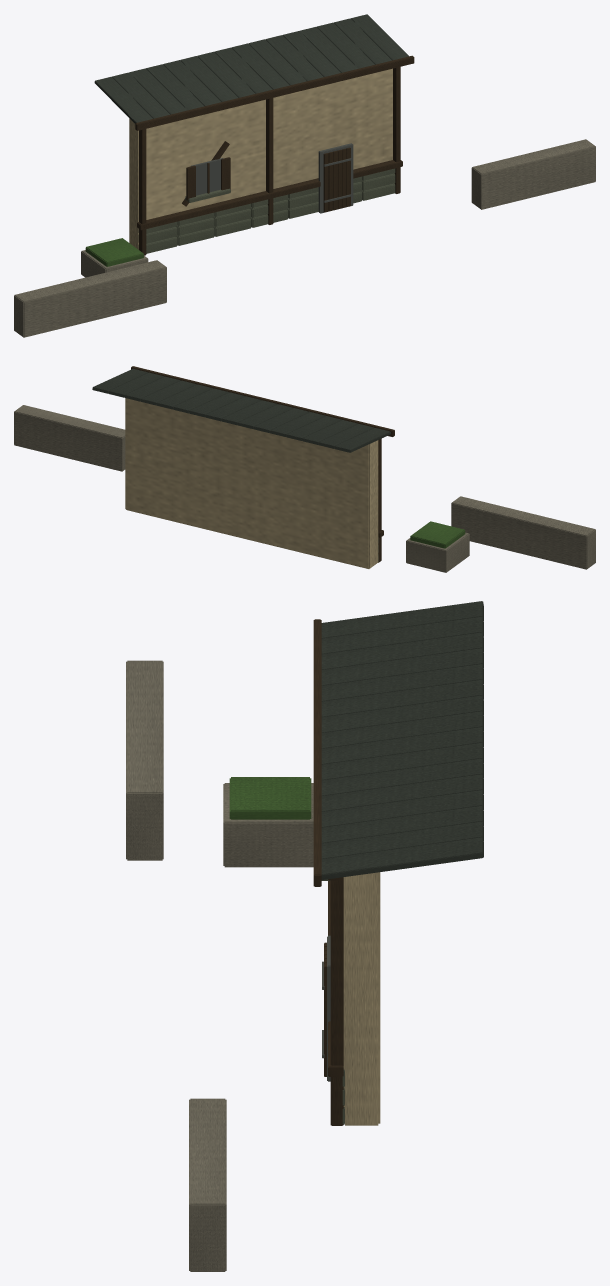
Rendered from villa-v1.glb.
3 views of the same model, one above another, from view 1: azimuth 30°, elevation 25°; view 2: azimuth 150°, elevation 25°; view 3: azimuth 270°, elevation 25° (orthographic). The views are drawn at different scales.
Visible parts, largest first — view 1: Plaster frontage, Overlapping roof board, Timber upright, Garden wall left, Stone footing, Garden wall right, Eave fascia, Door recess, Planter greenery, Stone planter; view 2: Plaster frontage, Overlapping roof board, Garden wall left, Garden wall right, Stone planter, Planter greenery, Eave fascia, Timber upright; view 3: Overlapping roof board, Plaster frontage, Garden wall left, Garden wall right, Stone planter, Timber upright, Planter greenery, Eave fascia.
Boxes of the visible parts, x1,y1,x2,y2 form: Plaster frontage: [129, 68, 392, 249]; Overlapping roof board: [94, 14, 408, 123]; Timber upright: [137, 67, 402, 255]; Garden wall left: [14, 260, 166, 337]; Stone footing: [138, 168, 395, 253]; Garden wall right: [471, 139, 595, 209]; Eave fascia: [135, 55, 414, 130]; Door recess: [191, 143, 353, 213]; Planter greenery: [85, 238, 143, 266]; Stone planter: [81, 250, 148, 277]; Plaster frontage: [125, 398, 378, 568]; Overlapping roof board: [92, 368, 390, 452]; Garden wall left: [451, 496, 595, 569]; Garden wall right: [14, 405, 125, 471]; Stone planter: [406, 532, 469, 572]; Planter greenery: [410, 521, 465, 548]; Eave fascia: [131, 366, 394, 436]; Timber upright: [378, 438, 383, 562]; Overlapping roof board: [321, 601, 483, 879]; Plaster frontage: [343, 872, 380, 1125]; Garden wall left: [126, 660, 163, 860]; Garden wall right: [189, 1098, 226, 1271]; Stone planter: [223, 783, 313, 867]; Timber upright: [324, 877, 343, 1125]; Planter greenery: [229, 777, 311, 819]; Eave fascia: [313, 619, 321, 886].
Size of what is drawn, in the model's own units: 20.5 by 4.93 by 5.7.
Materials: 9 (8 with a texture image).
